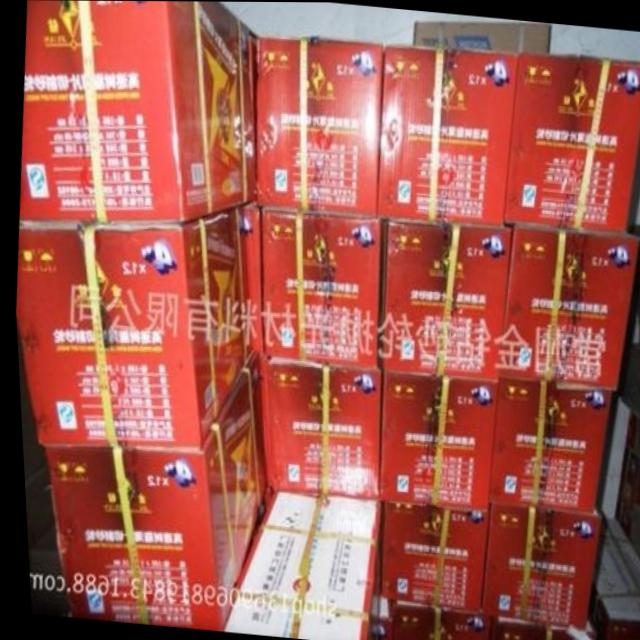box: (39, 353, 263, 631), (12, 205, 248, 450), (16, 0, 255, 223), (374, 44, 519, 222), (501, 51, 640, 228), (216, 489, 376, 640), (252, 36, 385, 217), (495, 222, 635, 386), (377, 218, 510, 377), (259, 207, 380, 368), (253, 352, 377, 501), (374, 369, 495, 508), (485, 375, 609, 509), (475, 501, 594, 627), (373, 501, 485, 616), (583, 514, 640, 640), (371, 594, 488, 640), (413, 20, 551, 51), (237, 205, 259, 357), (484, 617, 587, 640)
